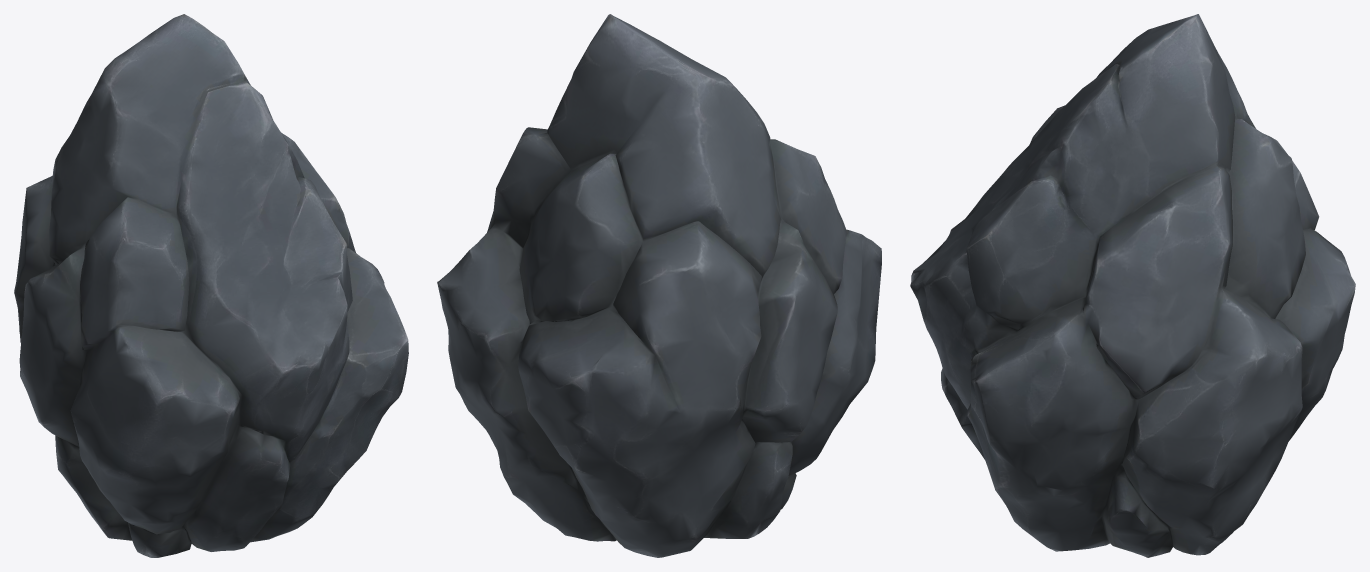
Rendered from selected.glb.
3 renders of one model, left to right at view 1: azimuth 30°, elevation 25°; view 2: azimuth 150°, elevation 25°; view 3: azimuth 270°, elevation 25°, orthographic. The views are drawn at different scales.
Visible parts, largest first — view 1: tripo_node_9a2422f9-9157-438c-ab0e-ea46620d4c97; view 2: tripo_node_9a2422f9-9157-438c-ab0e-ea46620d4c97; view 3: tripo_node_9a2422f9-9157-438c-ab0e-ea46620d4c97.
Part boxes in pixels (left/top/right/bottom): tripo_node_9a2422f9-9157-438c-ab0e-ea46620d4c97: left=14, top=14, right=408, bottom=557; tripo_node_9a2422f9-9157-438c-ab0e-ea46620d4c97: left=437, top=14, right=881, bottom=557; tripo_node_9a2422f9-9157-438c-ab0e-ea46620d4c97: left=910, top=14, right=1355, bottom=557.
Size of the model in its own units: 0.666 by 0.998 by 0.7871.
Materials: 1 (1 with a texture image).
